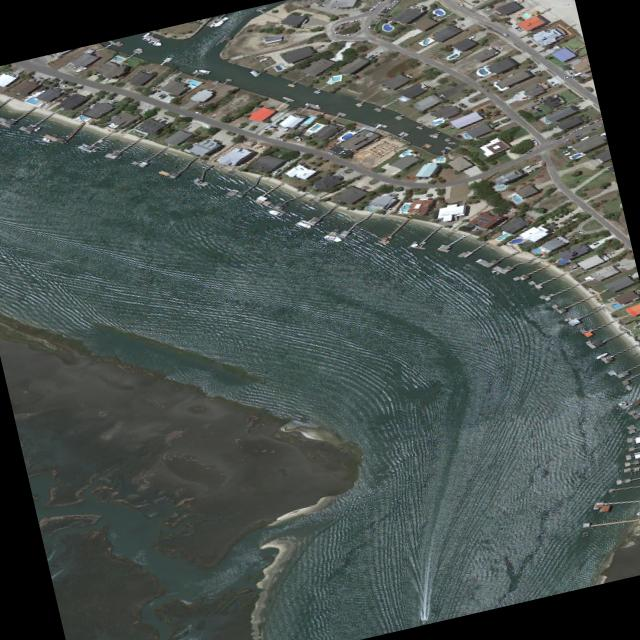ship: (212, 16, 230, 27), (321, 234, 344, 242), (265, 208, 284, 216), (295, 220, 313, 228), (146, 39, 164, 46), (595, 351, 609, 359), (74, 66, 89, 73), (293, 134, 303, 142), (489, 269, 501, 275), (198, 68, 212, 73), (40, 137, 51, 142), (33, 126, 42, 132), (208, 21, 217, 27), (258, 57, 268, 62), (140, 37, 151, 41), (620, 400, 627, 405), (289, 130, 297, 133), (205, 125, 212, 128)
small-vehicle: (368, 5, 377, 11), (273, 168, 282, 174), (530, 161, 540, 166), (529, 65, 538, 70), (159, 94, 168, 99), (42, 77, 50, 82), (570, 128, 578, 133), (262, 125, 270, 130), (90, 102, 98, 107), (577, 125, 586, 129), (524, 149, 533, 153), (458, 3, 466, 7), (518, 27, 526, 31), (505, 21, 513, 25), (521, 95, 529, 99), (533, 165, 541, 169), (591, 126, 599, 130), (562, 138, 570, 142), (562, 149, 570, 153), (577, 229, 585, 233), (338, 150, 346, 154), (569, 140, 575, 145), (514, 25, 521, 29), (502, 32, 509, 36), (595, 117, 602, 121), (534, 69, 541, 73), (552, 82, 559, 86), (539, 95, 546, 99), (350, 18, 357, 22), (562, 132, 569, 136), (367, 54, 374, 58), (377, 50, 384, 54), (370, 55, 377, 59), (588, 121, 595, 125), (112, 100, 119, 104), (574, 133, 581, 137), (97, 72, 104, 76), (72, 65, 79, 69), (109, 98, 116, 102), (60, 83, 67, 87), (158, 93, 165, 97), (608, 251, 615, 255), (327, 151, 334, 155), (563, 75, 572, 78), (558, 146, 567, 149), (375, 1, 380, 6), (541, 162, 546, 167), (18, 70, 24, 74), (382, 8, 390, 11), (379, 10, 387, 13), (376, 13, 384, 16), (505, 207, 513, 210), (386, 4, 394, 7), (373, 17, 381, 20), (383, 6, 391, 9), (272, 128, 278, 132), (184, 126, 192, 129), (197, 103, 205, 106), (194, 111, 202, 114), (93, 71, 99, 75), (48, 54, 54, 58), (279, 138, 287, 141), (280, 133, 286, 137), (530, 138, 536, 142), (533, 141, 539, 145), (556, 136, 563, 139), (340, 22, 347, 25), (516, 27, 523, 30), (532, 99, 539, 102), (493, 113, 500, 116), (343, 33, 350, 36), (367, 25, 372, 29), (334, 26, 339, 30), (334, 30, 339, 34), (575, 137, 580, 141), (339, 26, 345, 29), (66, 62, 72, 65), (273, 136, 279, 139), (593, 242, 599, 245), (331, 146, 337, 149), (270, 126, 278, 128), (144, 109, 149, 112), (486, 114, 493, 116), (389, 2, 396, 4), (391, 0, 398, 1)
